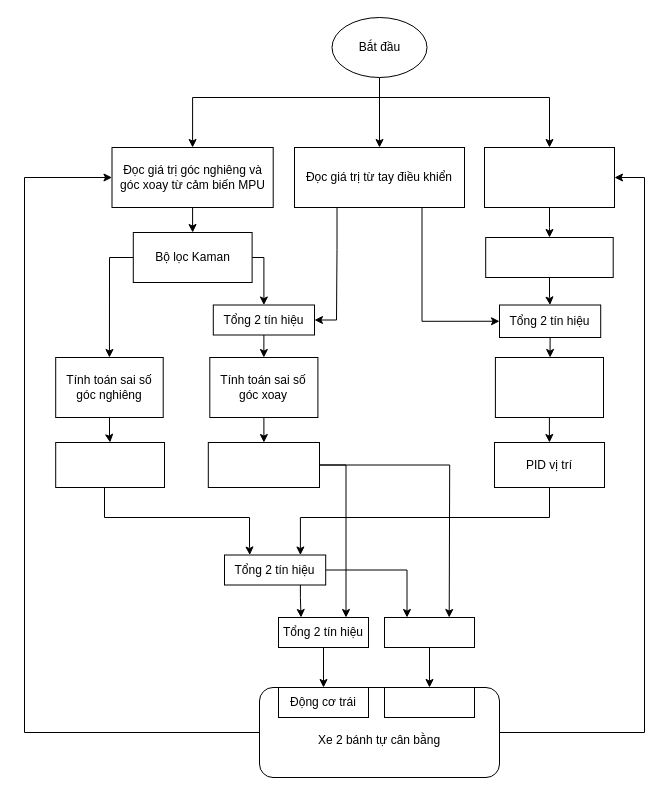
This 670x795 diagram has some shape labels left out. Here are the shapes that lost their labels. From the top down, the centre of each, then its label:
At [549,177]: "Đọc giá trị encoder".
At [549,257]: "Tính toán vị trí".
At [549,387]: "Tính toán sai số góc vị trí".
At [109,465]: "PID góc nghiêng".
At [263,465]: "PID góc xoay".
At [429,632]: "Hiệu 2 tín hiệu".
At [429,702]: "Động cơ phải".
